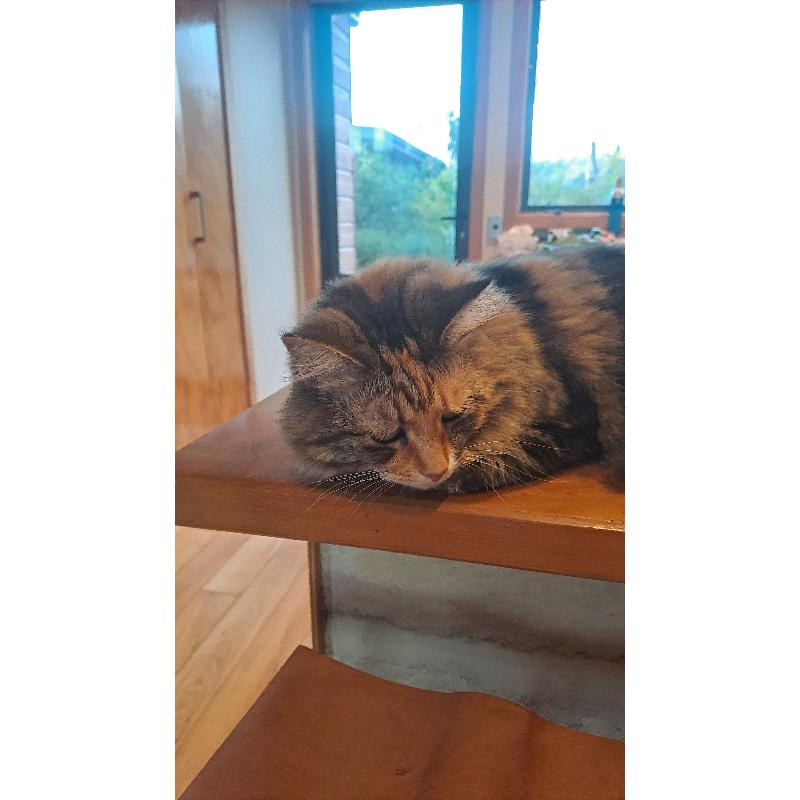red: (282, 232, 624, 512)
